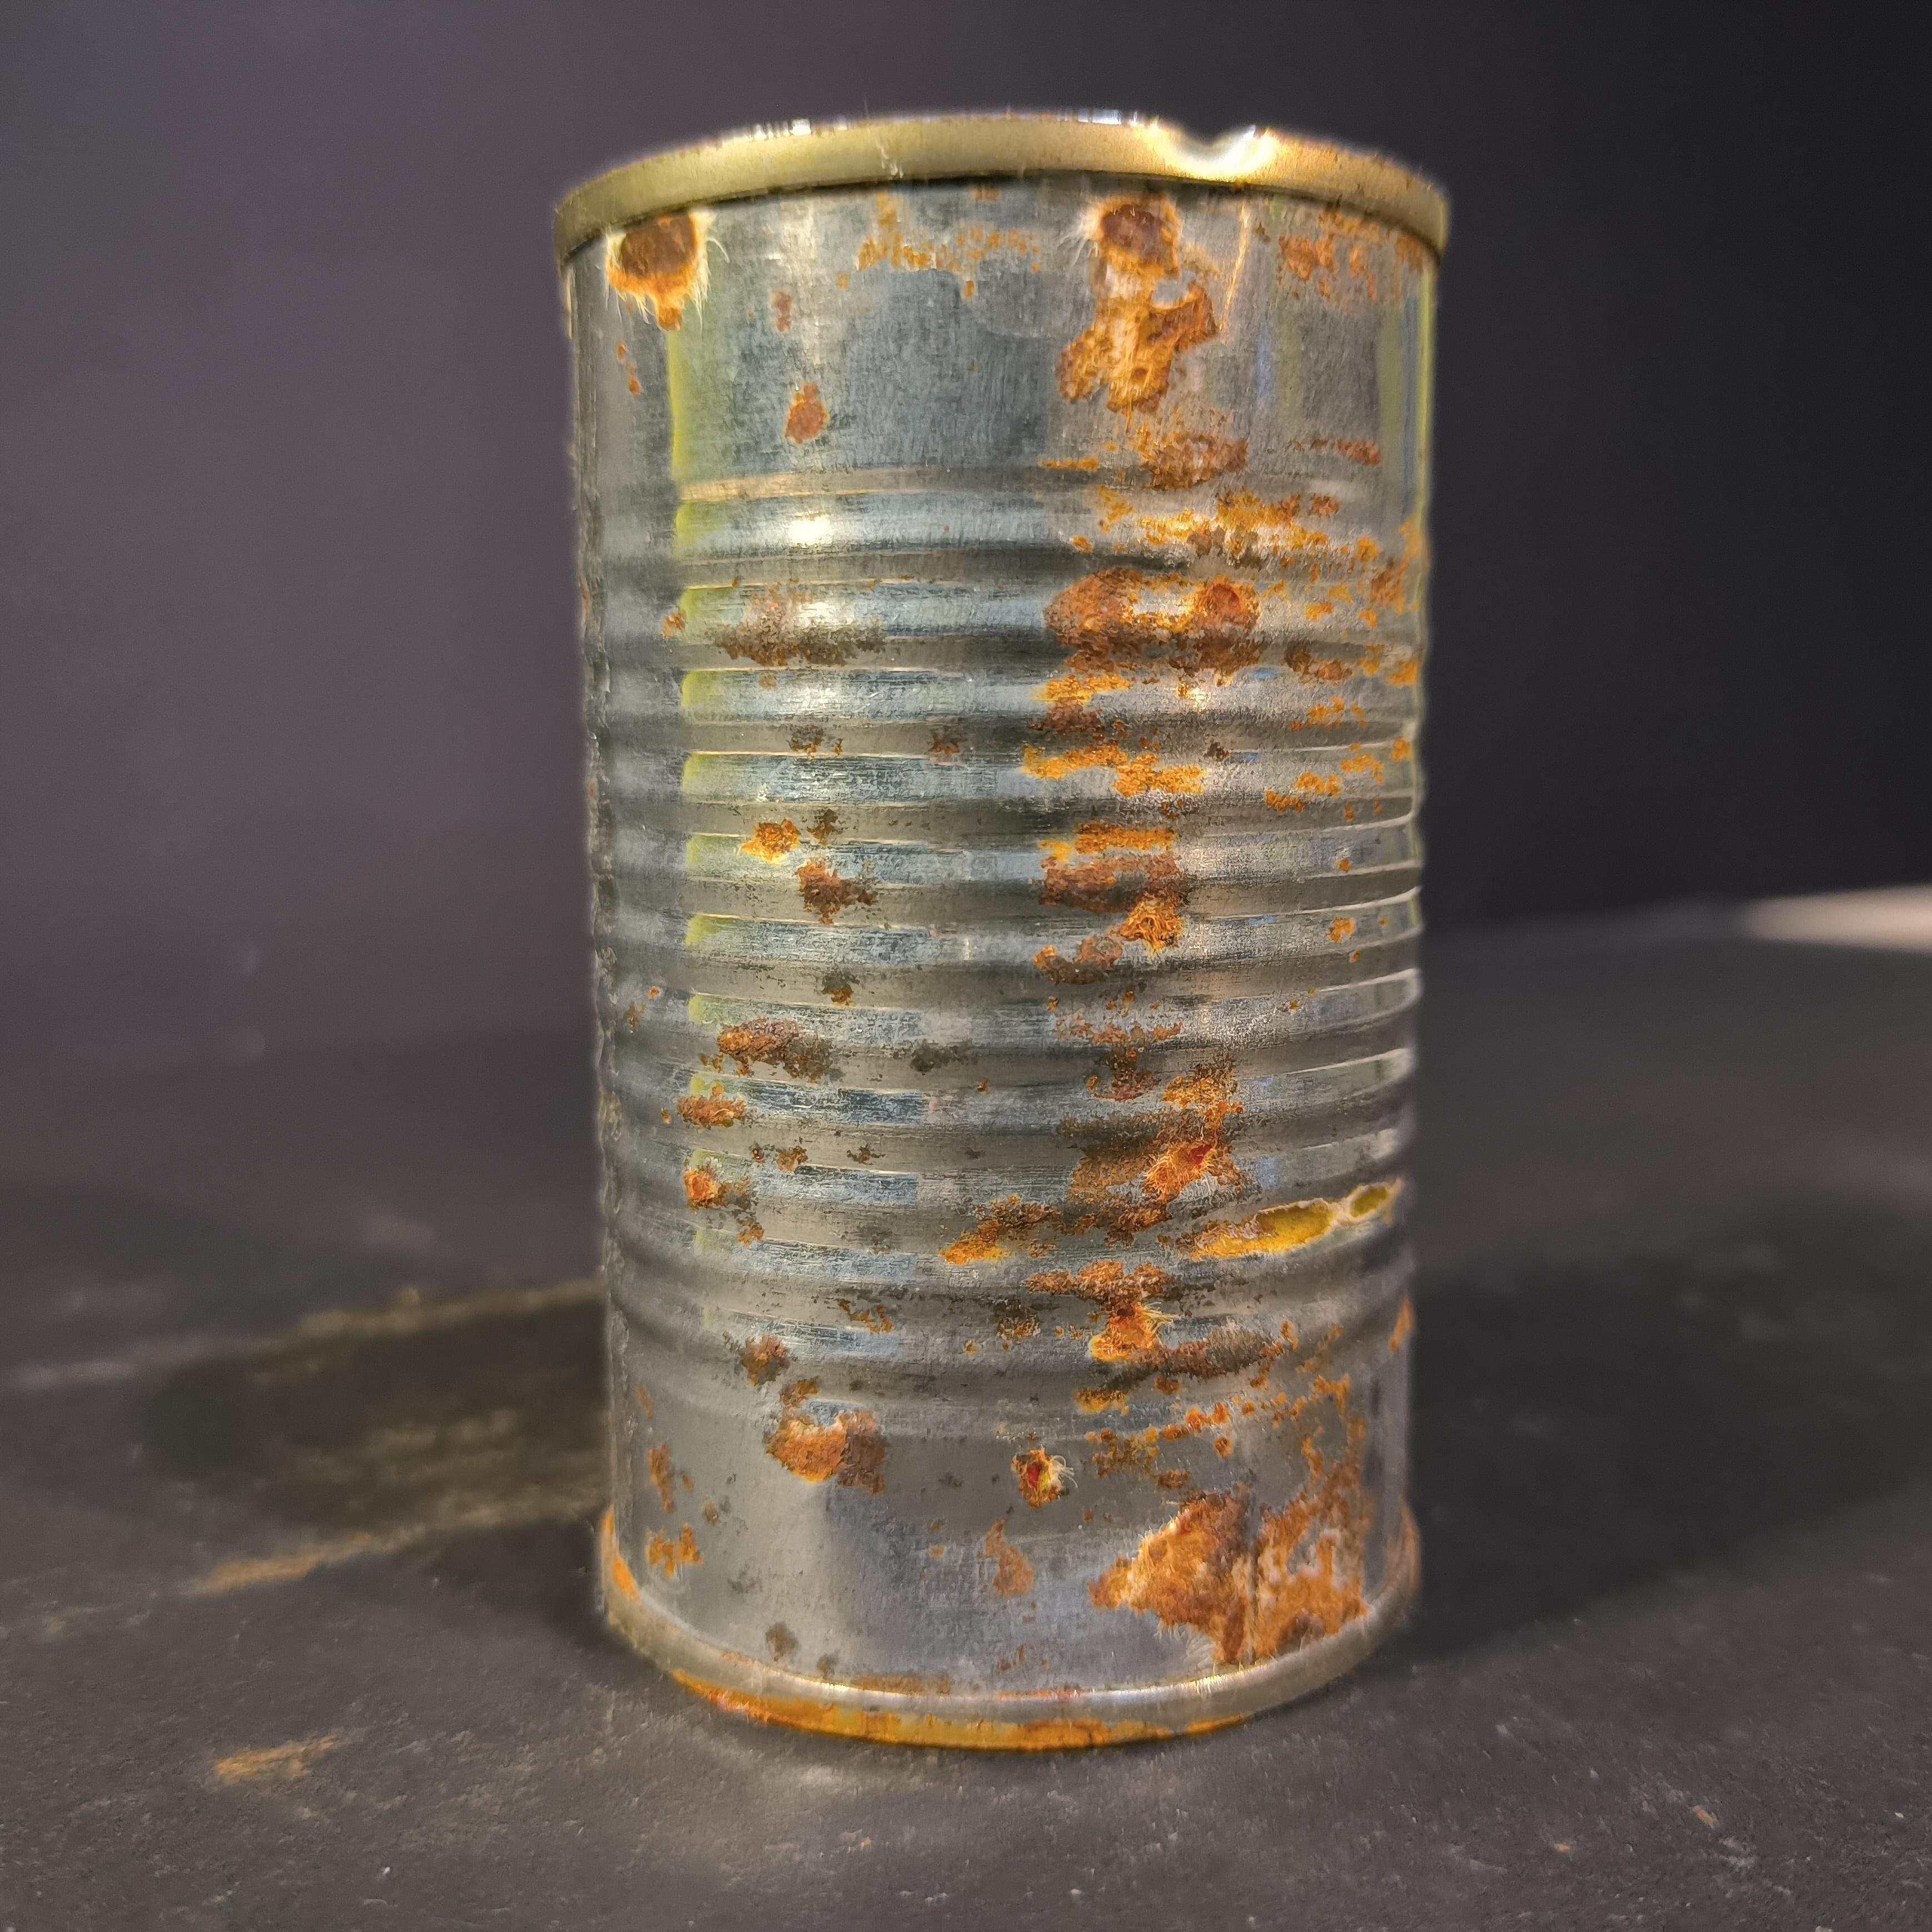Rusted: (525, 92, 1454, 1775)
